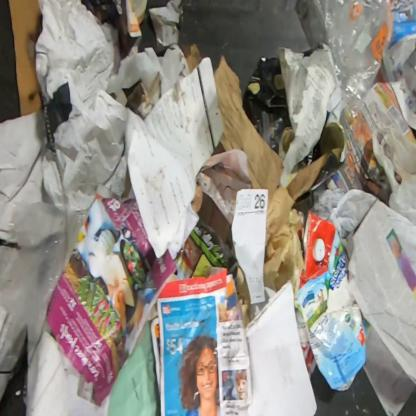cardboard: (296, 209, 368, 391), (242, 54, 292, 155), (8, 0, 44, 117)
soft_plastic: (0, 201, 90, 371), (320, 0, 394, 121), (370, 126, 415, 226), (313, 188, 378, 238)
